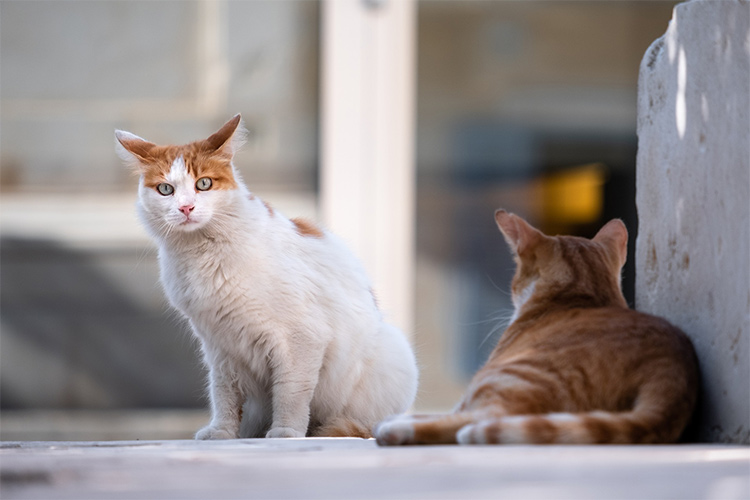cat: (99, 96, 417, 433), (429, 188, 701, 458)
